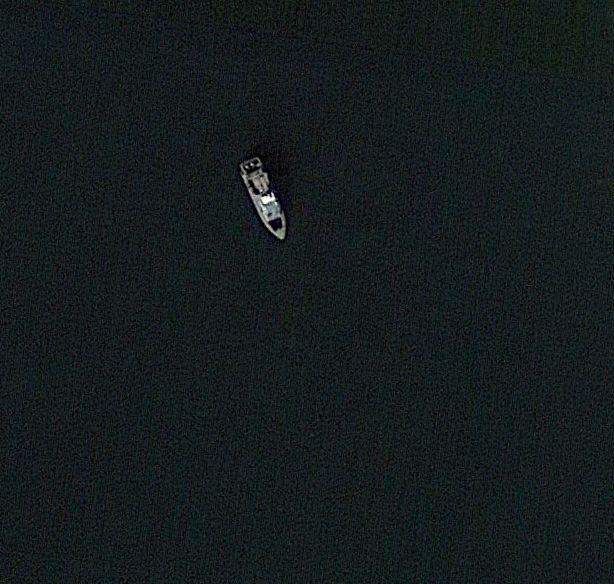boat: (239, 157, 288, 243)
